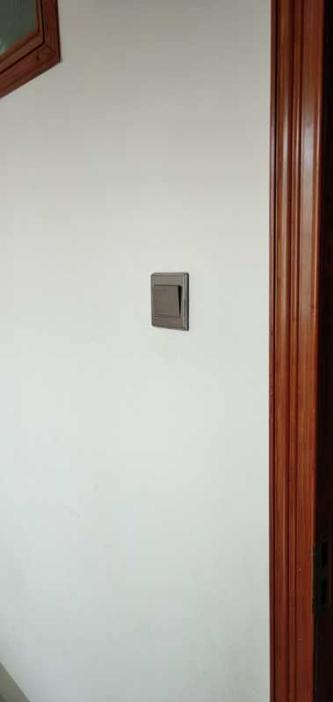switch: (150, 279, 186, 322)
